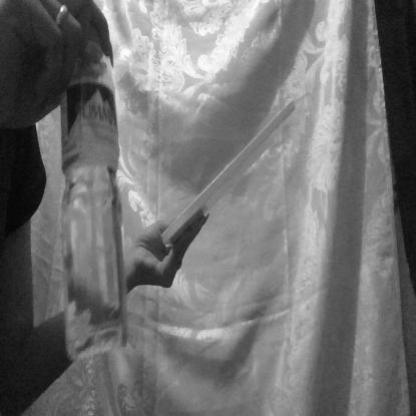Plastic Bottle: (58, 27, 132, 361)
